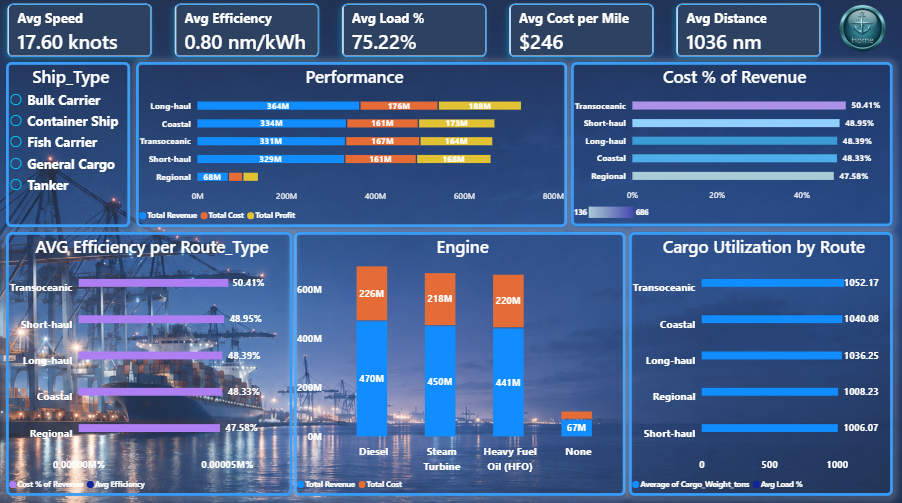

What the dashboard file says about the page in this screenshot:
{"tool":"powerbi","page":{"name":"Operational Performance","canvas":[1280,720],"ordinal":2},"visuals":[{"type":"cardVisual","fields":{"Data":["Ship.Avg Speed","Ship.Avg Efficiency","Ship.Avg Load %","Ship.Avg Cost per Mile","Ship.Avg Distance per Voyage"]},"box":[0,0,1177.8,100.6],"z":0},{"type":"listSlicer","fields":{"Values":["Ship.Ship_Type"]},"box":[10,94.3,175.7,234.3],"z":1000},{"type":"barChart","title":"Performance","fields":{"Category":["Ship.Route_Type"],"Y":["Ship.Total Revenue","Ship.Total Cost","Ship.Total Profit"]},"box":[194.3,94.3,611.4,234.3],"z":2000},{"type":"columnChart","title":"Engine ","fields":{"Category":["Ship.Engine_Type"],"Y":["Ship.Total Revenue","Ship.Total Cost"]},"box":[418.6,335.7,470,374.3],"z":3000},{"type":"clusteredBarChart","title":"Cost % of Revenue","fields":{"Category":["Ship.Route_Type"],"Y":["Ship.Cost % of Revenue"]},"box":[810,94.3,455.7,232.9],"z":4000},{"type":"clusteredBarChart","title":"AVG Efficiency per Route_Type","fields":{"Category":["Ship.Route_Type"],"Y":["Ship.Cost % of Revenue","Ship.Avg Efficiency"]},"box":[10,335.7,405.7,374.3],"z":5000},{"type":"clusteredBarChart","title":" Cargo Utilization by Route ","fields":{"Category":["Ship.Route_Type"],"Y":["Avg(Ship.Cargo_Weight_tons)","Ship.Avg Load %"]},"box":[892.9,335.7,374.3,374.3],"z":6000},{"type":"image","box":[1165,9.9,114.8,90.7],"z":7000}]}

Visuals, with their boxes in screenshot pixels (x1, y1, x2, y2), scaled from the page's 1280x720 canvas onto the 902x503 screenshot:
cardVisual - Ship.Avg Speed x Ship.Avg Efficiency: select_region(0, 0, 830, 70)
listSlicer - Ship.Ship_Type: select_region(7, 66, 131, 230)
"Performance" barChart: select_region(137, 66, 568, 230)
"Engine " columnChart: select_region(295, 235, 626, 496)
"Cost % of Revenue" clusteredBarChart: select_region(571, 66, 892, 229)
"AVG Efficiency per Route_Type" clusteredBarChart: select_region(7, 235, 293, 496)
" Cargo Utilization by Route " clusteredBarChart: select_region(629, 235, 893, 496)
image: select_region(821, 7, 901, 70)
